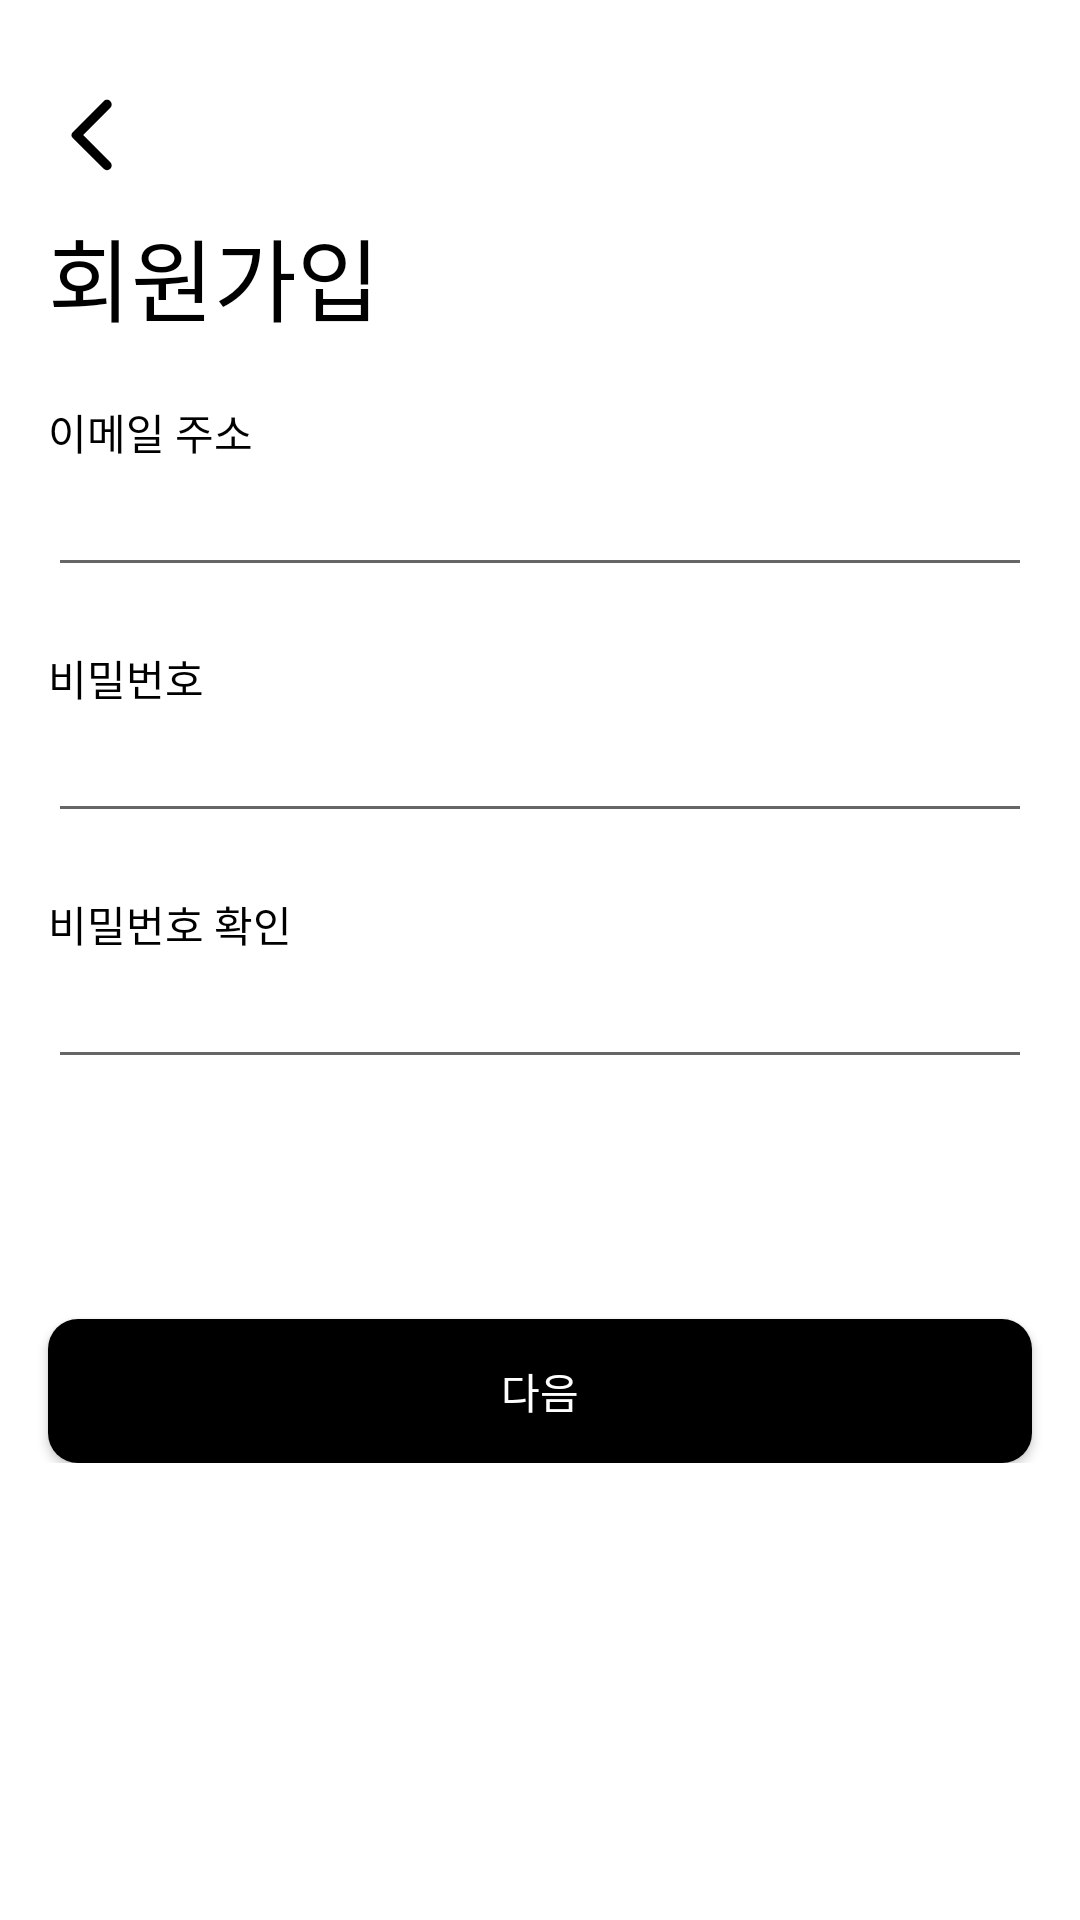

Icon bounding boxes for this 1080 × 1920 phone screenshot, format [x1=x1, y1=y1, x2=x2, y2=y2]:
arrow back: [x1=71, y1=99, x2=112, y2=171]
